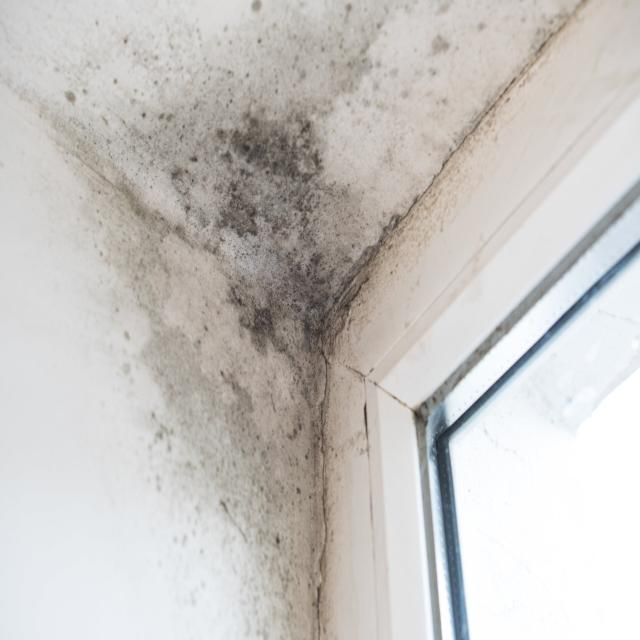dampness: (38, 0, 593, 638)
